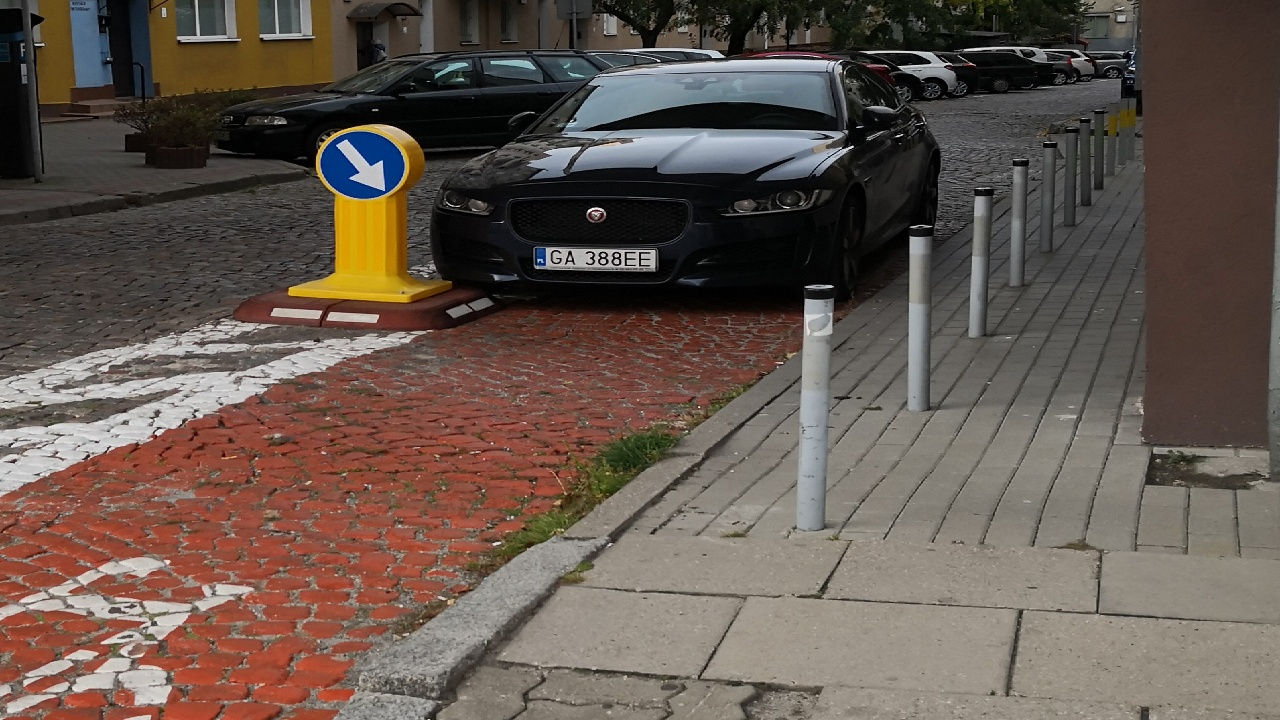C9: (321, 131, 406, 200)
